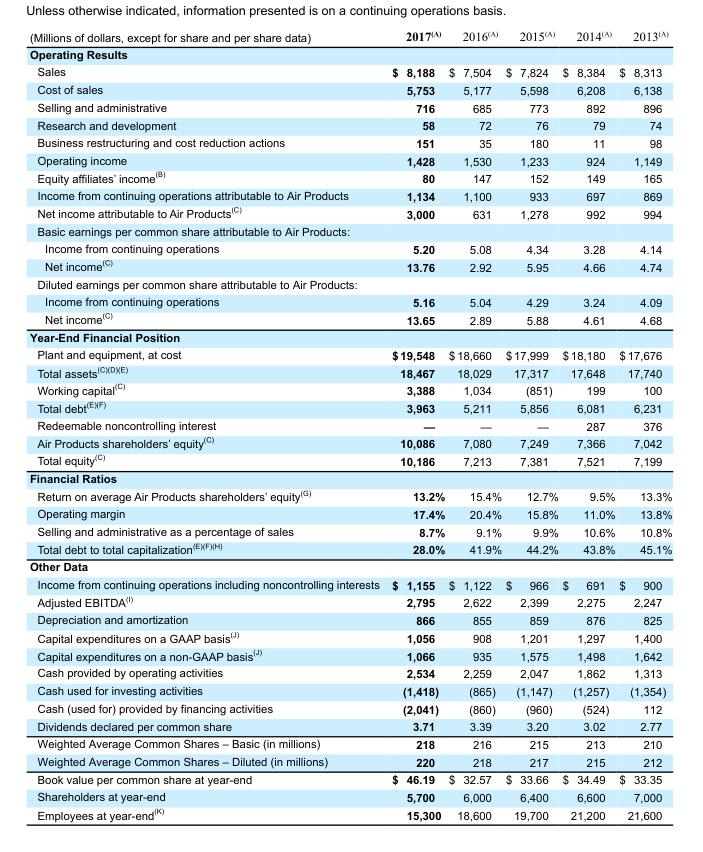table: (28, 28, 671, 821)
table column: (28, 28, 385, 821), (385, 28, 446, 821), (446, 28, 503, 821), (559, 28, 616, 821), (503, 28, 559, 821), (616, 28, 671, 821)
table column header: (28, 28, 671, 45)
table projected row header: (28, 557, 671, 575), (28, 45, 671, 62), (28, 222, 671, 239), (28, 275, 671, 292), (28, 328, 671, 345), (28, 469, 671, 486)
table row: (28, 203, 671, 222), (28, 256, 671, 275), (28, 309, 671, 328), (28, 592, 671, 611), (28, 645, 671, 664), (28, 62, 671, 80), (28, 80, 671, 98), (28, 98, 671, 116), (28, 133, 671, 151), (28, 168, 671, 186), (28, 362, 671, 380), (28, 380, 671, 398), (28, 398, 671, 416), (28, 433, 671, 451), (28, 451, 671, 469), (28, 486, 671, 504), (28, 504, 671, 522), (28, 539, 671, 557), (28, 557, 671, 575), (28, 681, 671, 699), (28, 699, 671, 717), (28, 734, 671, 752), (28, 752, 671, 770), (28, 28, 671, 45), (28, 45, 671, 62), (28, 116, 671, 133), (28, 151, 671, 168), (28, 186, 671, 203), (28, 222, 671, 239), (28, 239, 671, 256), (28, 275, 671, 292), (28, 292, 671, 309), (28, 328, 671, 345), (28, 345, 671, 362), (28, 416, 671, 433), (28, 469, 671, 486), (28, 522, 671, 539), (28, 575, 671, 592), (28, 611, 671, 628), (28, 628, 671, 645), (28, 664, 671, 681), (28, 717, 671, 734), (28, 770, 671, 787), (28, 787, 671, 804), (28, 804, 671, 821)
